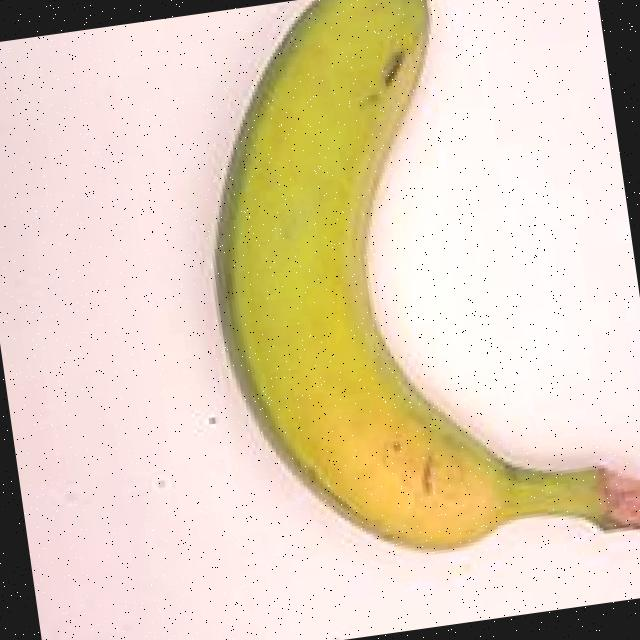Unripe: (159, 0, 640, 624)
